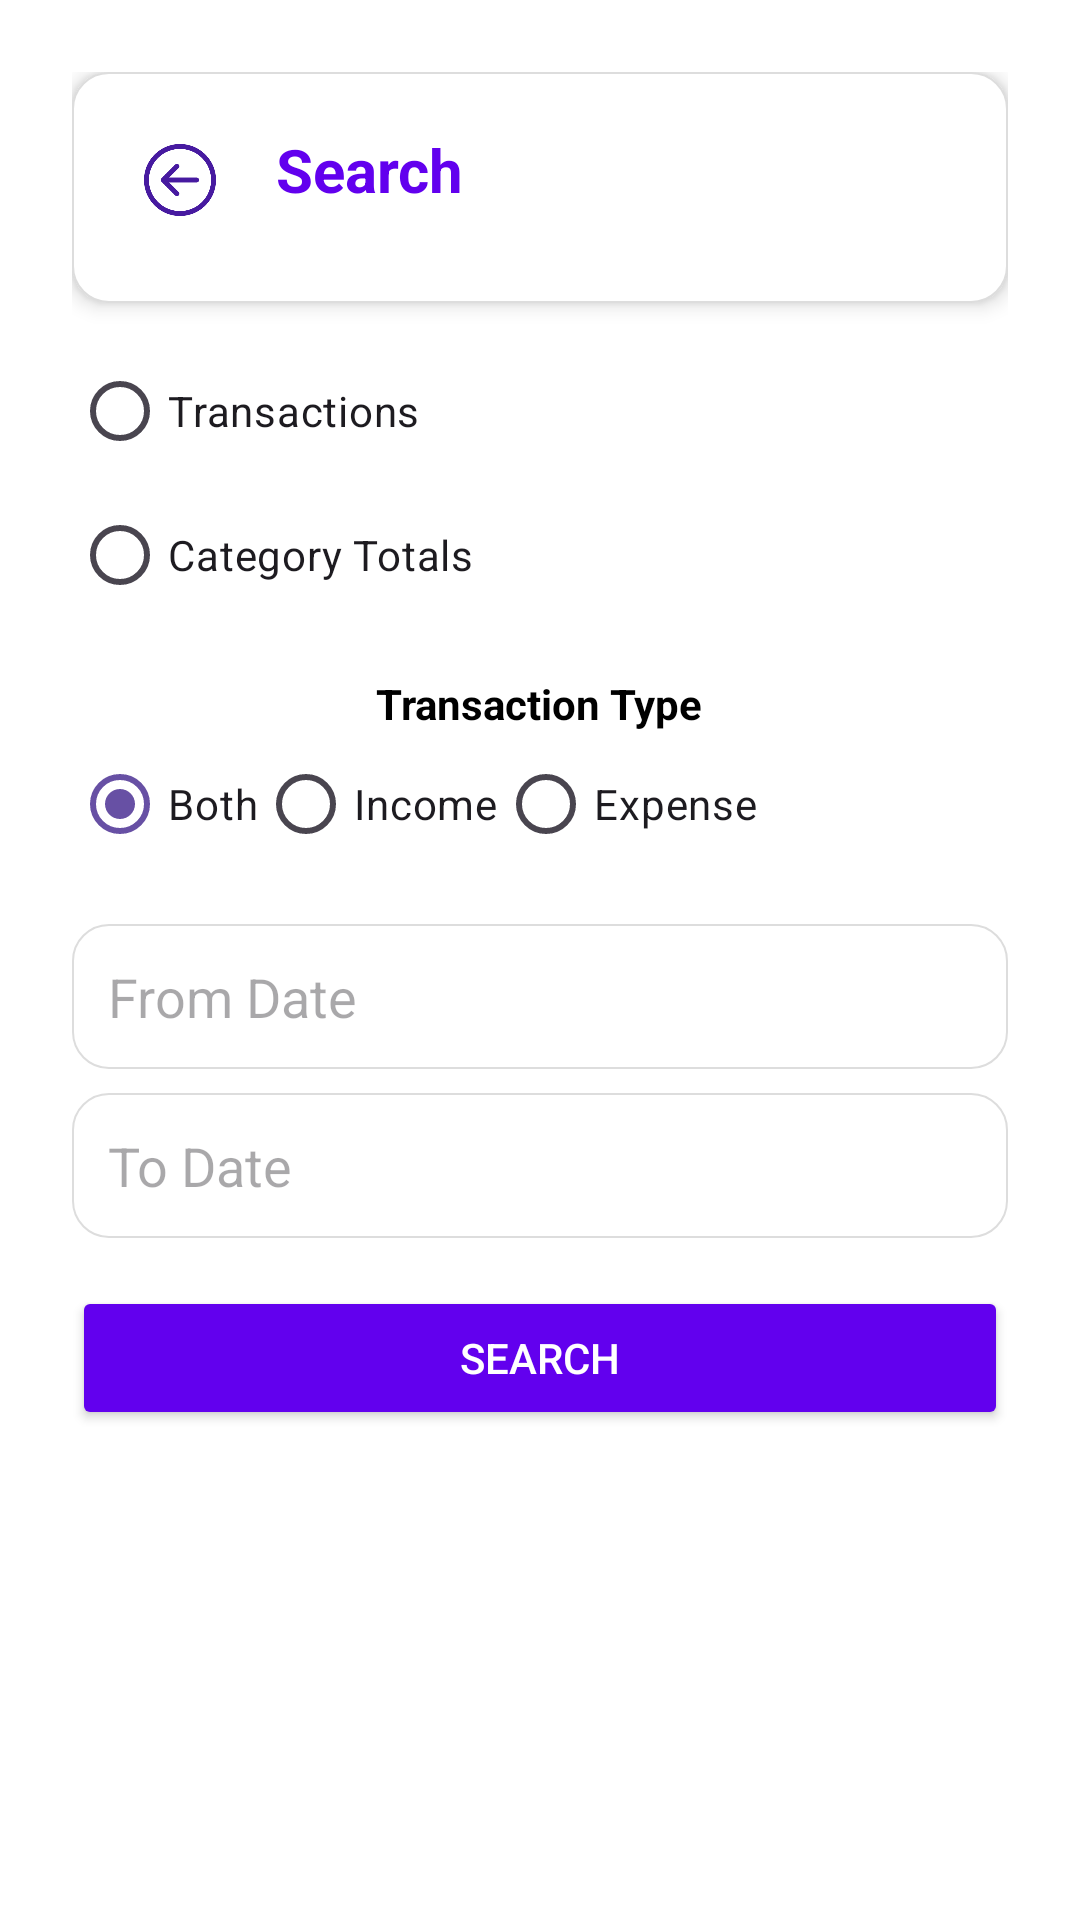

Screen size 1080x1920. Icon name, then its center in pixels as [x,y]:
back: [180,180]
